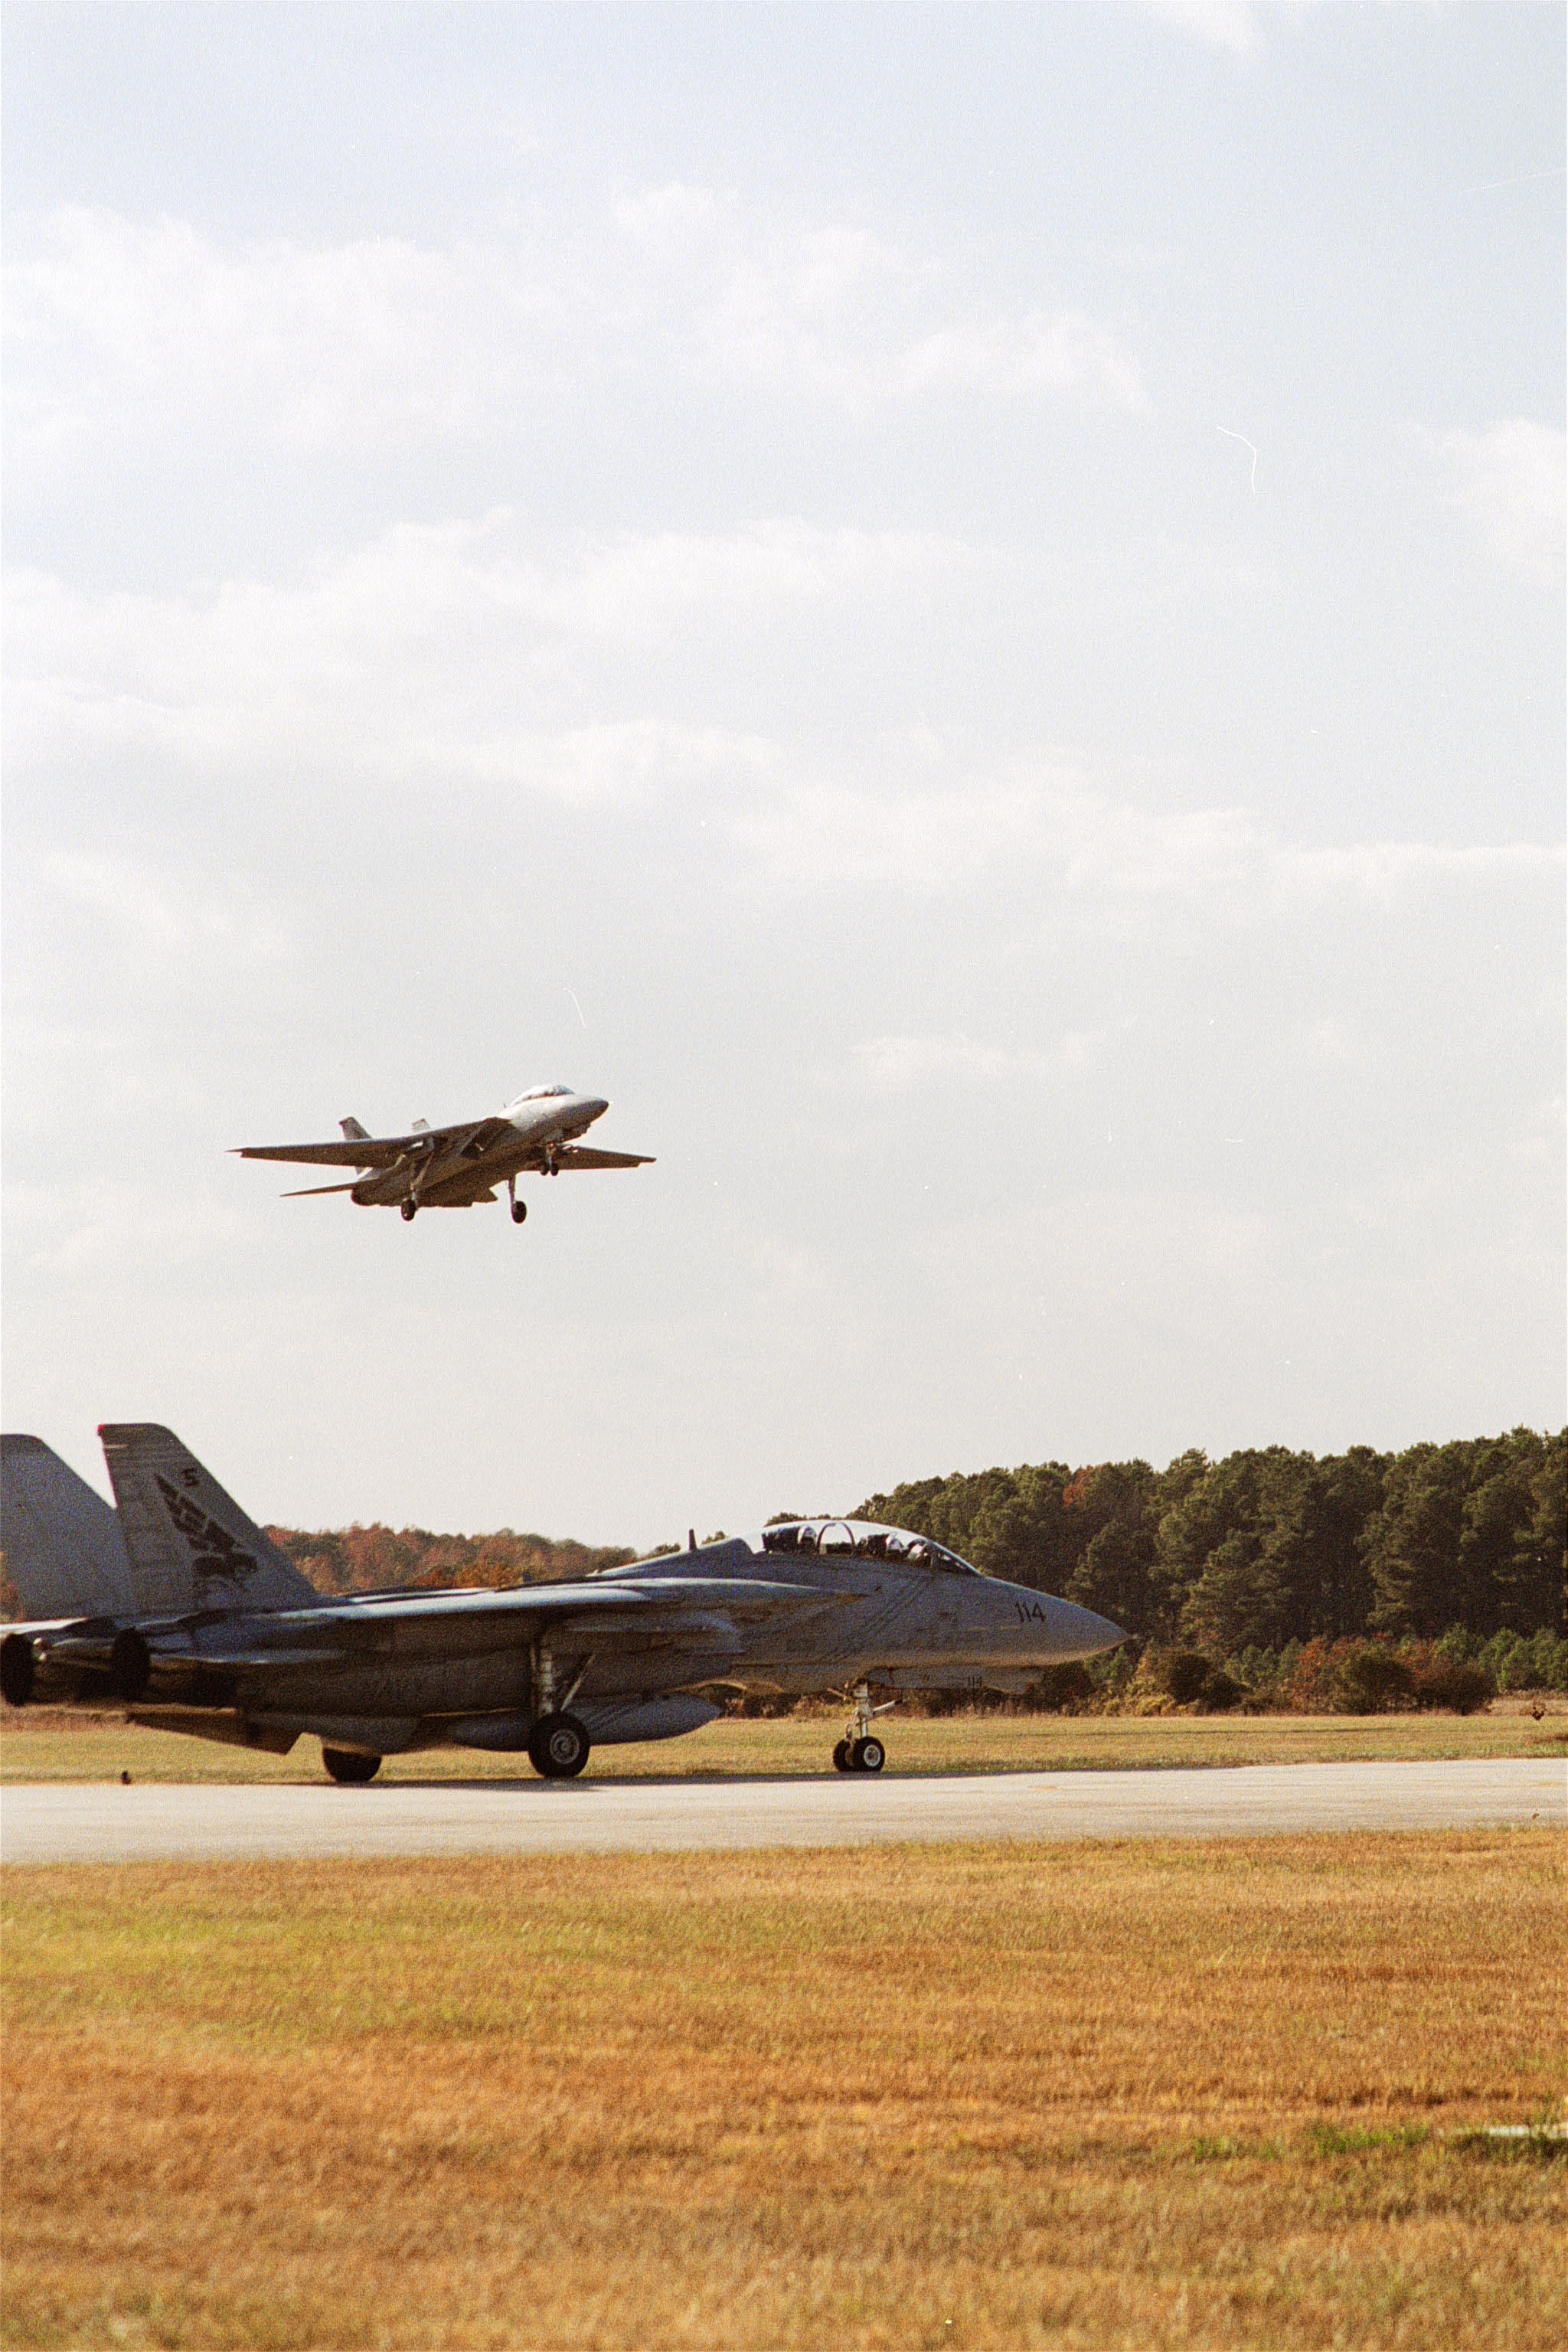F14: (0, 1421, 1144, 1781), (224, 1083, 658, 1225)
